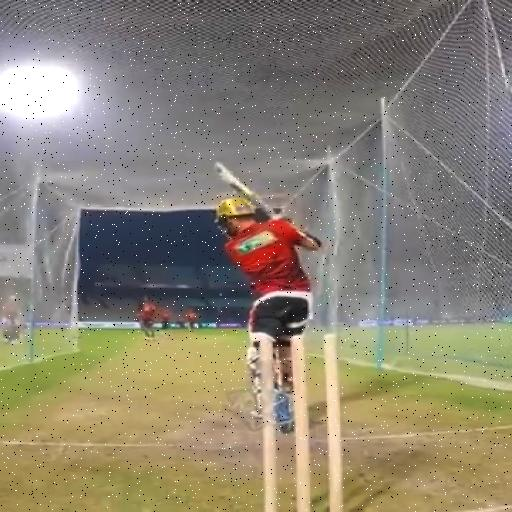Cricket bat: (216, 163, 279, 217)
